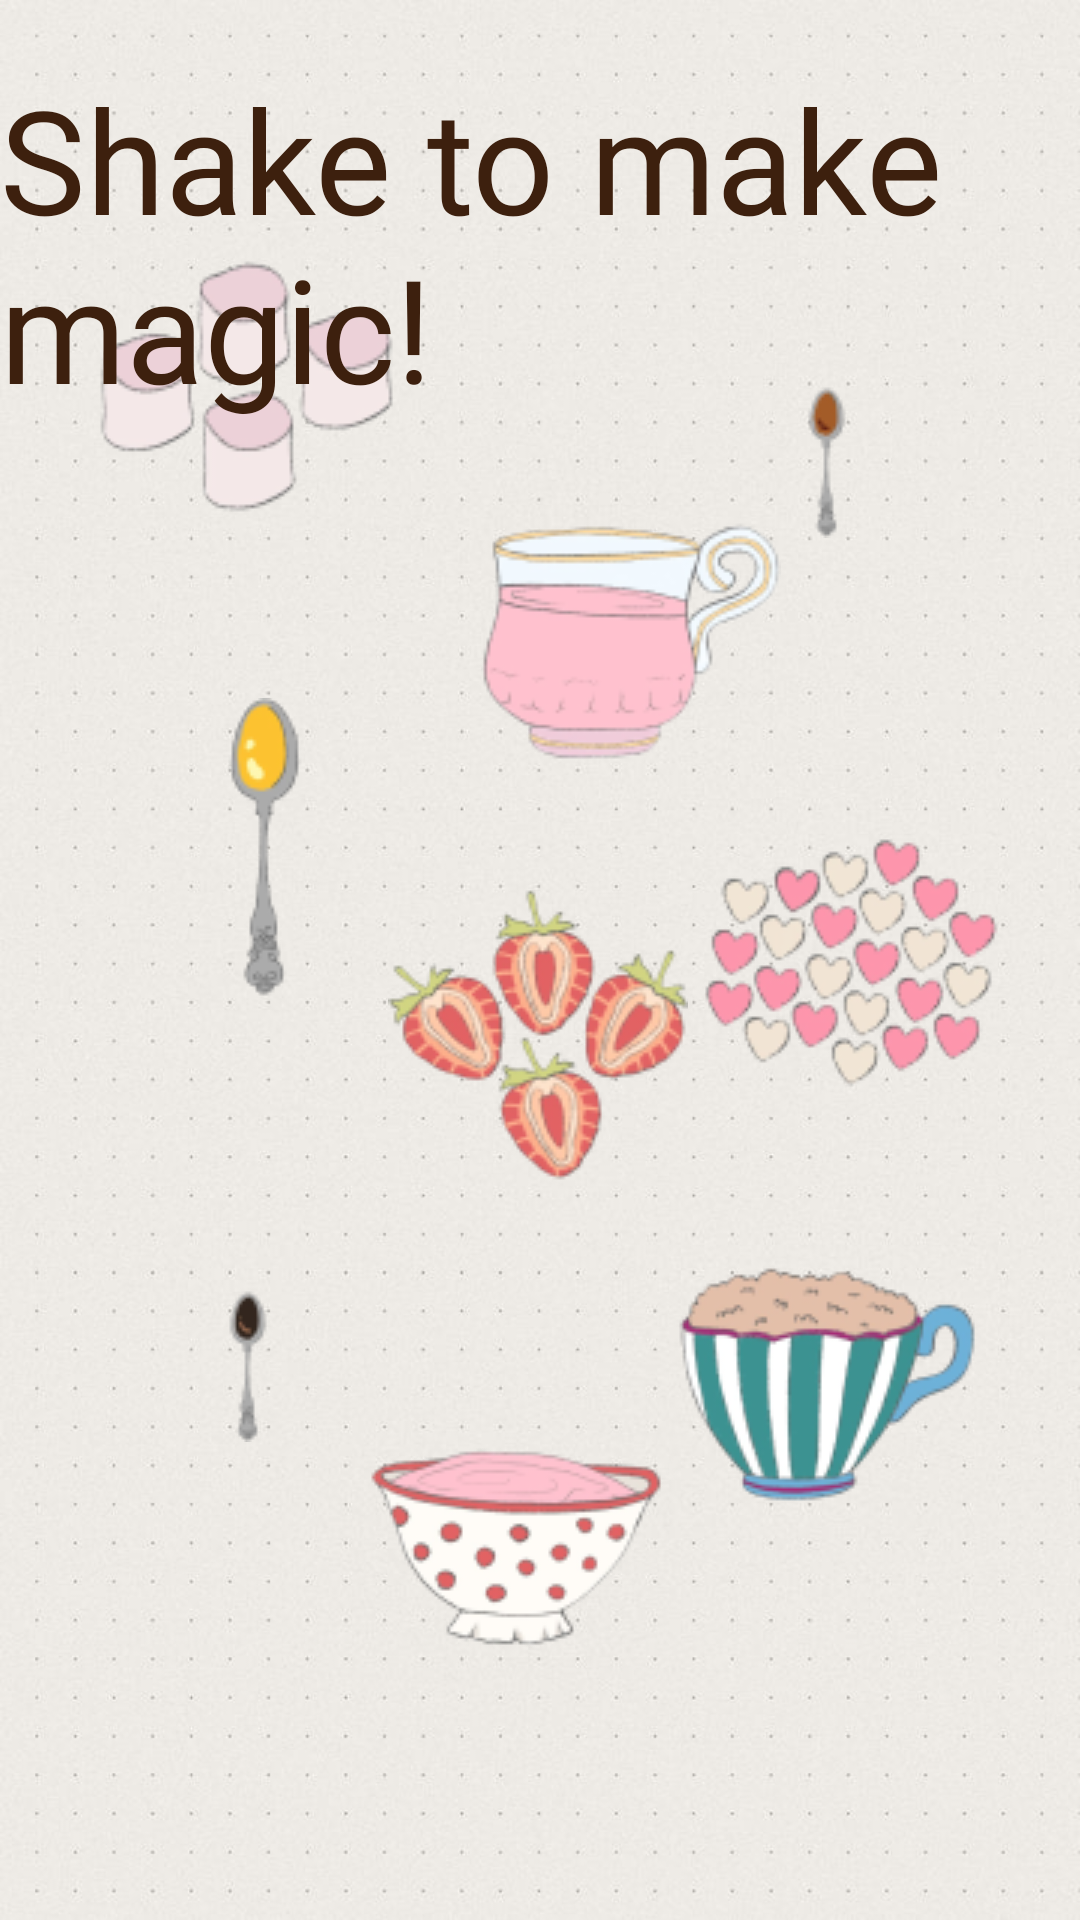

Icons on this 1080×1920 Android screen, each with its box as [left=x1, top=y1, right=x2, bottom=y2]:
honey: [left=115, top=698, right=386, bottom=995]
oats: [left=680, top=1268, right=975, bottom=1506]
sprinkles: [left=705, top=810, right=997, bottom=1085]
strawberries: [left=388, top=885, right=688, bottom=1179]
strawberry milk: [left=483, top=498, right=778, bottom=772]
strawberry yoghurt: [left=371, top=1425, right=661, bottom=1698]
